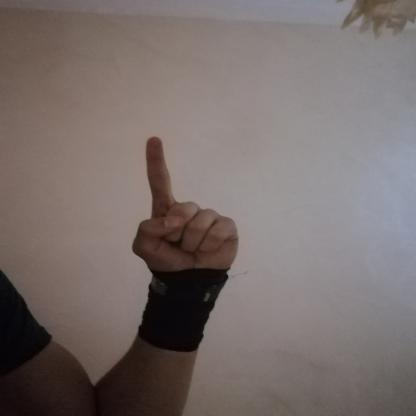BAA: (117, 131, 252, 285)
